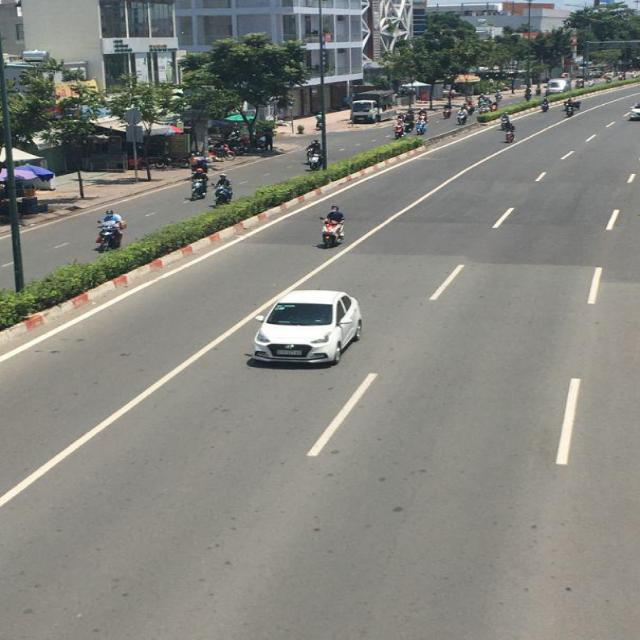car: (252, 290, 364, 366), (626, 109, 640, 123)
motorcycle: (97, 211, 127, 251), (319, 216, 346, 248), (216, 176, 234, 206), (189, 178, 208, 202)
truck: (350, 86, 401, 124)
